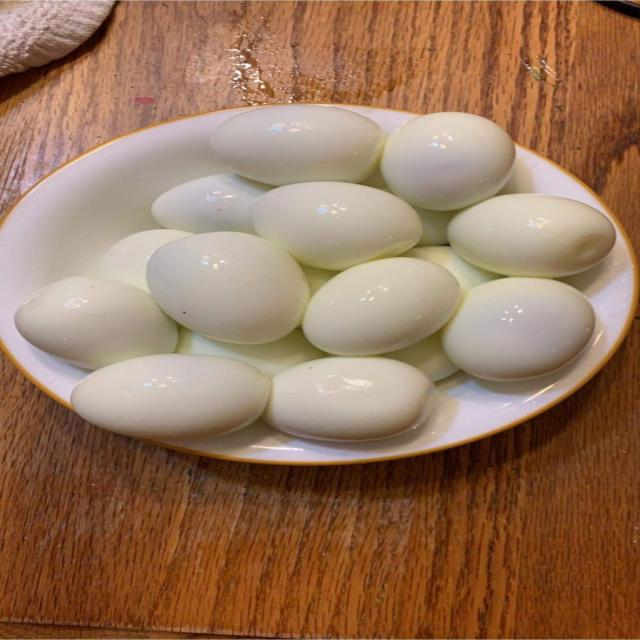egg boiled: (147, 232, 308, 344), (71, 354, 270, 440), (442, 277, 596, 381), (303, 257, 460, 356), (250, 181, 422, 271), (16, 276, 177, 369), (263, 357, 432, 441), (448, 193, 615, 278), (210, 105, 383, 186), (380, 113, 515, 210), (177, 327, 325, 377), (152, 173, 273, 234), (101, 229, 193, 292), (400, 247, 505, 294), (382, 330, 458, 383), (414, 207, 457, 246)
